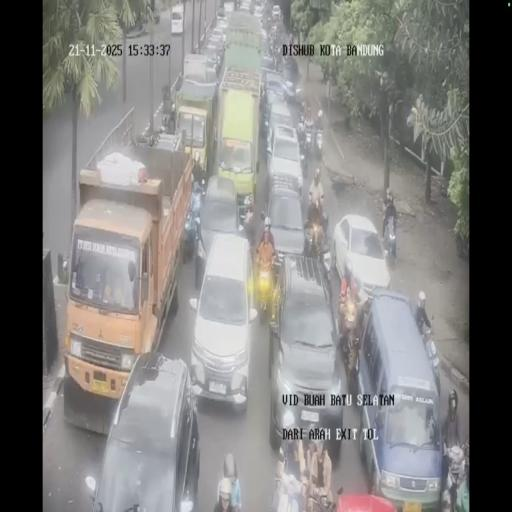3: (172, 58, 218, 180), (223, 10, 263, 74)
car: (354, 290, 442, 504), (90, 353, 200, 509), (268, 257, 342, 454), (196, 172, 246, 275), (332, 213, 390, 299), (264, 188, 306, 266), (266, 118, 304, 196), (261, 70, 289, 116), (203, 39, 225, 74), (170, 4, 184, 34), (214, 15, 230, 40), (260, 51, 276, 74), (216, 3, 228, 19), (253, 2, 264, 19), (272, 4, 282, 21), (239, 0, 252, 13)
truck: (338, 306, 362, 388), (254, 250, 281, 322), (422, 321, 442, 397), (307, 202, 329, 246), (381, 214, 398, 268), (242, 198, 256, 244), (299, 133, 309, 174), (314, 118, 324, 158), (274, 45, 284, 72), (294, 84, 304, 106)
